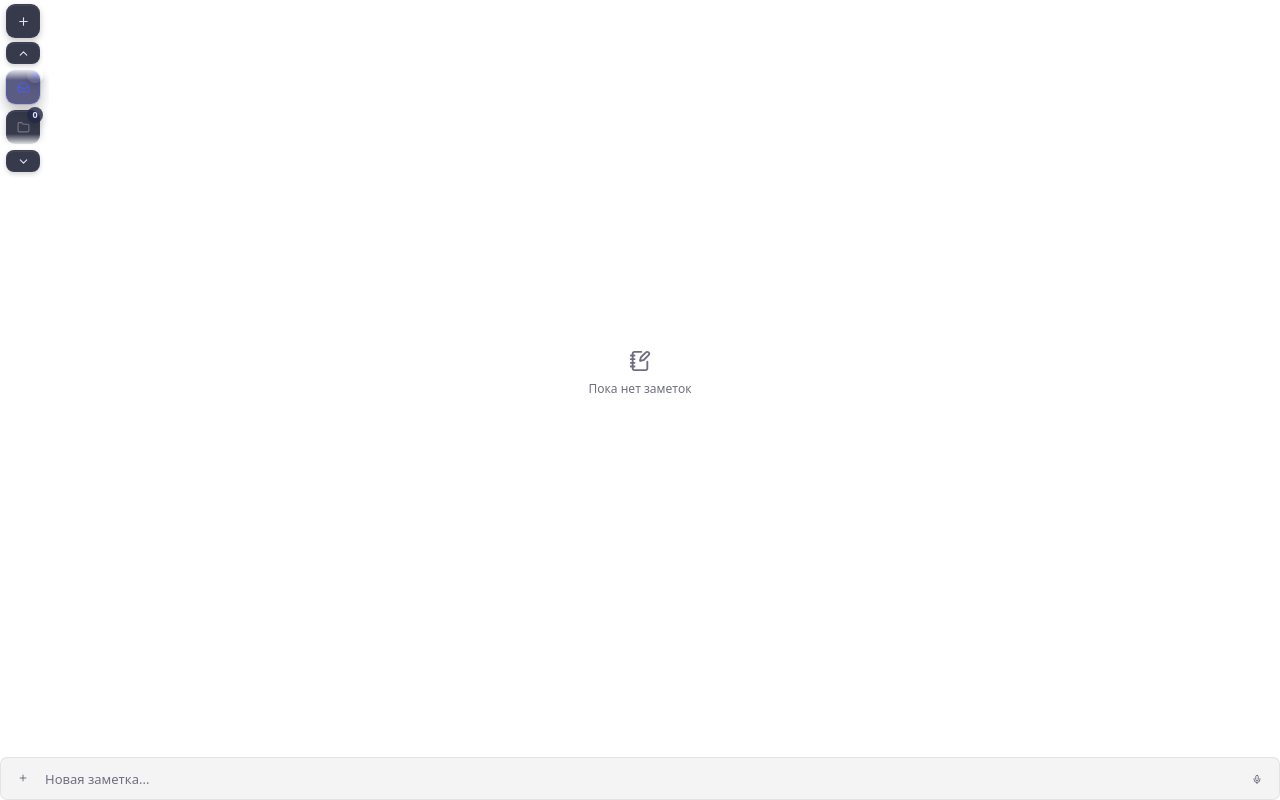
it: NotesView › creates a folder from the folder composer
Expected: the 1st button titled "Все" is shown, [6, 70, 40, 104]
Click the button titled "Создать папку" at (23, 21), box [6, 4, 40, 38]
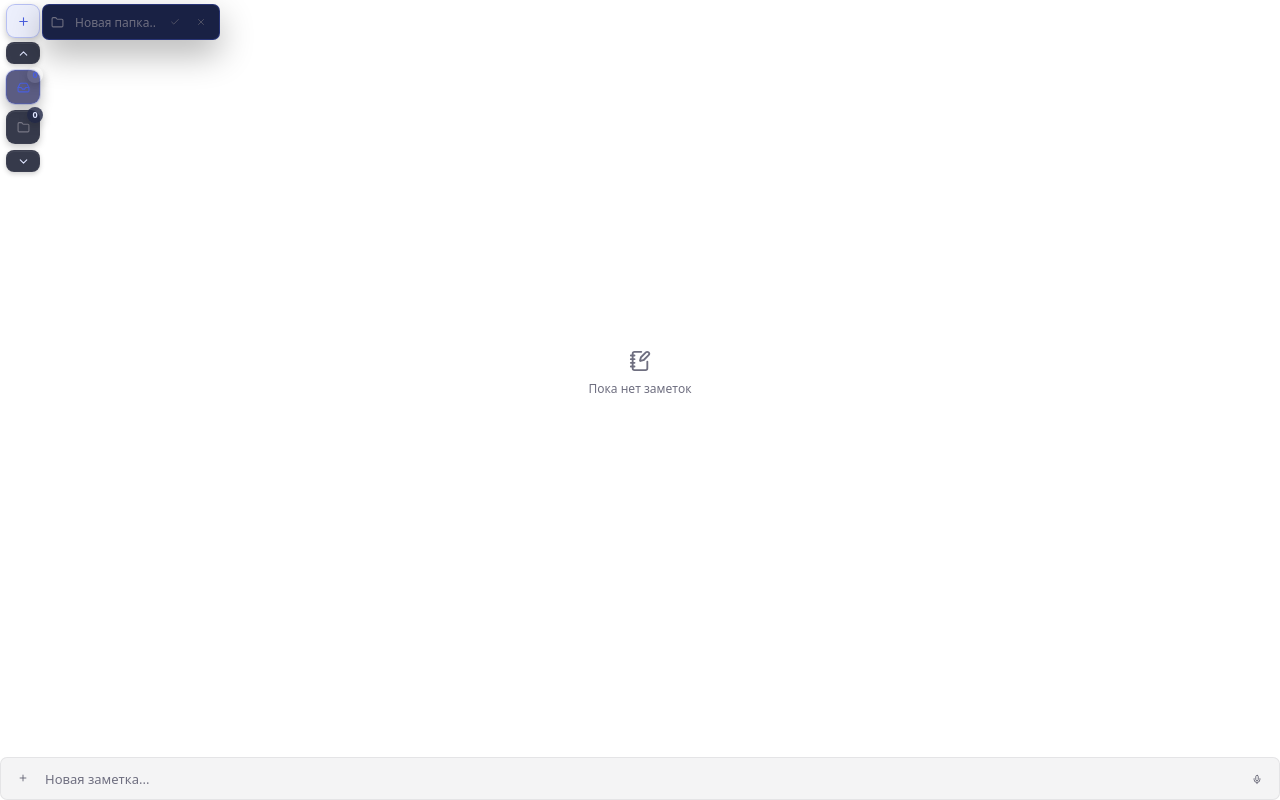
Type "Идеи" into the field with placeholder "Новая папка..." at (115, 22), box [73, 12, 157, 32]
Then press Enter
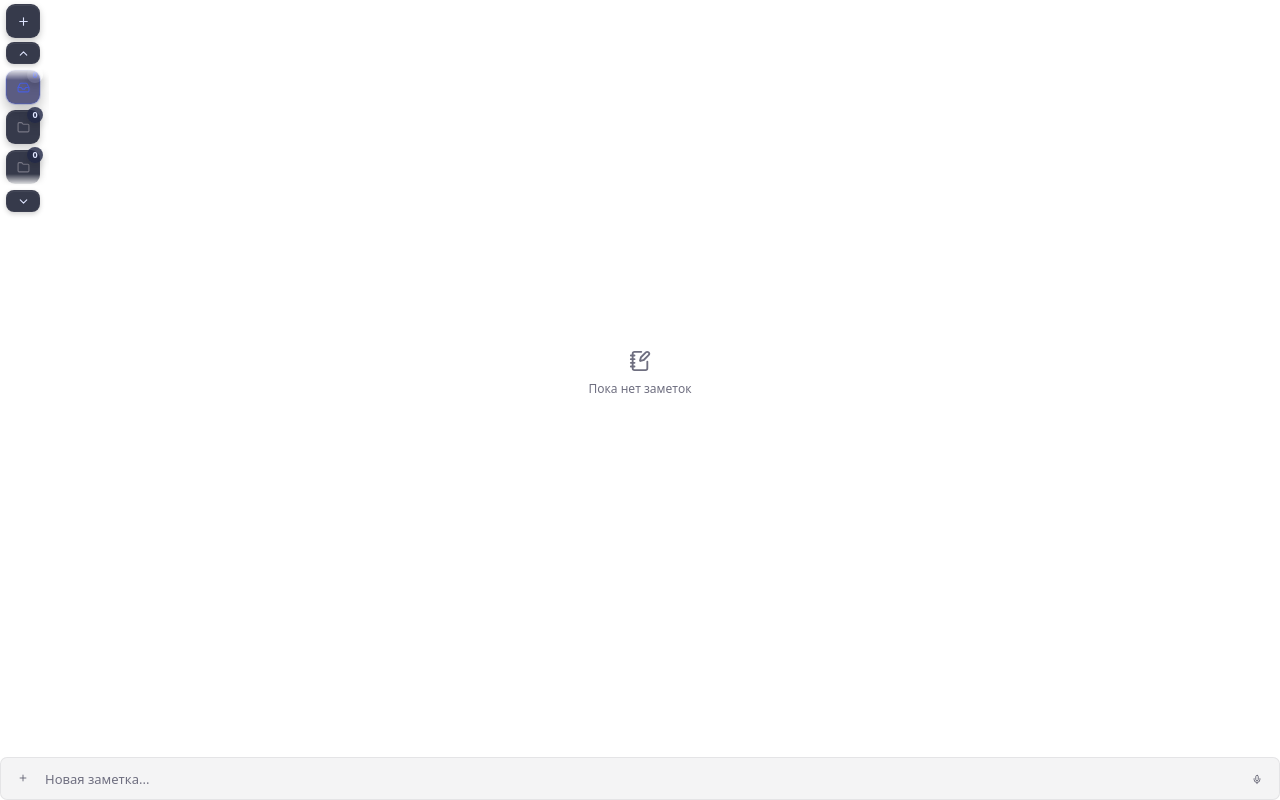
Expected: the 3rd button titled "Идеи" is shown, [6, 150, 40, 184]
